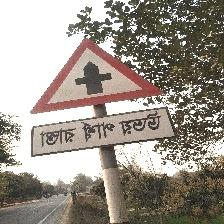Crossroad: (10, 31, 192, 161)
